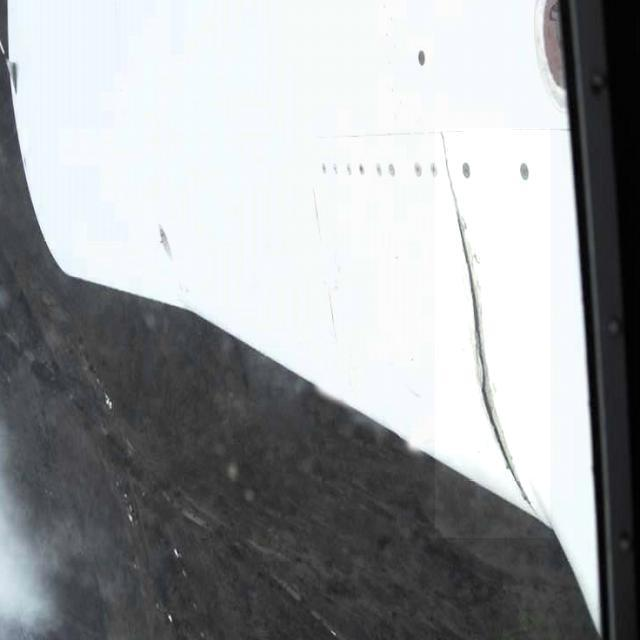crack: (436, 129, 551, 539)
